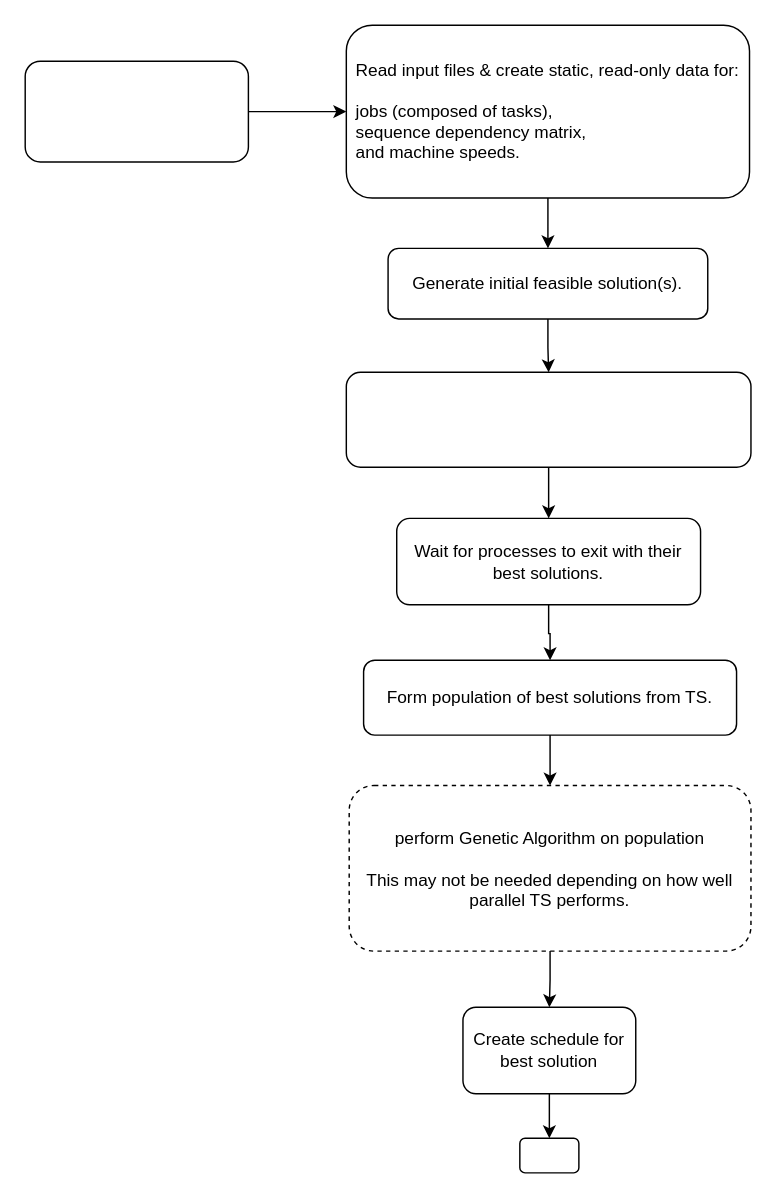
Image size: 776x1198. Some labels were removed from this diagram. Here are the shapes that lost their labels. From the top down, the centre of each, then its label:
At [136,111]: "Start (pass csv files as input)".
At [548,419]: "Spawn child processes to run Tabu Search on initial solution(s) in parallel.".
At [548,1155]: "End".
